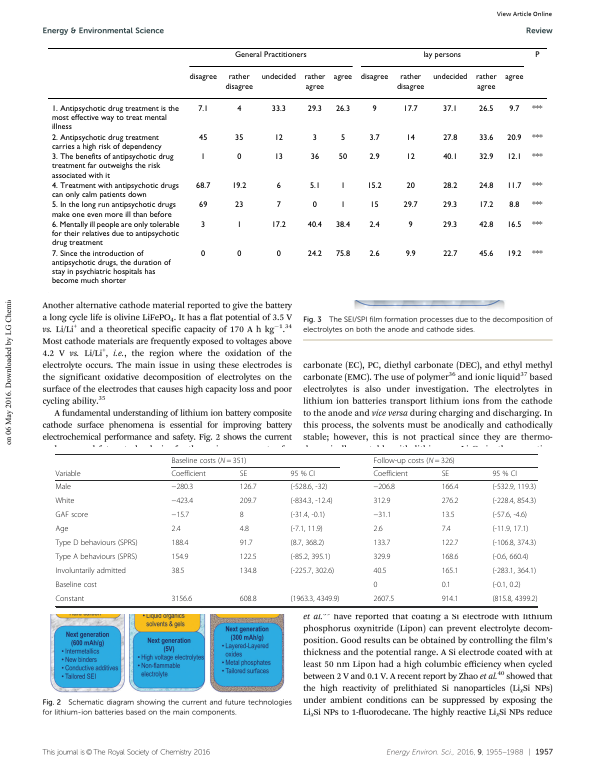borderless: (46, 46, 548, 294), (54, 452, 537, 606)
cell: (50, 249, 171, 286), (50, 220, 180, 248), (50, 104, 179, 132), (50, 152, 174, 181), (50, 200, 176, 220), (50, 181, 179, 200), (50, 133, 162, 152), (54, 538, 138, 548), (54, 552, 138, 562), (372, 456, 456, 465), (233, 50, 307, 60), (54, 566, 127, 576), (171, 456, 247, 465), (395, 73, 425, 92), (224, 73, 253, 92), (290, 594, 340, 604), (491, 594, 538, 604), (491, 482, 537, 492), (491, 496, 537, 506), (491, 538, 537, 548), (491, 566, 537, 576), (290, 566, 335, 576), (54, 580, 98, 590), (303, 73, 326, 92), (474, 73, 497, 92), (290, 496, 333, 506), (290, 552, 331, 562), (422, 50, 461, 60), (290, 482, 328, 492), (491, 524, 529, 534), (491, 552, 529, 562), (372, 469, 409, 479), (491, 510, 528, 520), (171, 469, 207, 479), (290, 510, 326, 520), (54, 510, 89, 520), (290, 538, 325, 548), (290, 524, 324, 534), (260, 73, 296, 82), (432, 73, 468, 82), (491, 580, 522, 590), (54, 594, 85, 604), (54, 469, 81, 479), (491, 469, 518, 479), (359, 73, 389, 82), (188, 73, 217, 82), (290, 469, 316, 479), (372, 482, 396, 492), (171, 482, 194, 492), (171, 496, 194, 506), (372, 594, 395, 604), (171, 594, 193, 604), (54, 496, 75, 506), (372, 510, 392, 520), (372, 496, 391, 506), (171, 510, 190, 520), (372, 538, 391, 548), (372, 552, 391, 562), (332, 73, 353, 82), (54, 482, 72, 492), (239, 482, 257, 492), (441, 482, 459, 492), (239, 496, 257, 506), (441, 496, 459, 506), (171, 538, 189, 548), (441, 538, 459, 548), (171, 552, 189, 562), (239, 552, 257, 562), (441, 552, 459, 562), (239, 566, 257, 576), (441, 566, 459, 576), (239, 594, 257, 604), (441, 594, 459, 604), (504, 73, 524, 82), (334, 220, 351, 230), (334, 249, 351, 259), (270, 104, 286, 114), (306, 104, 322, 114), (334, 104, 350, 114), (402, 104, 418, 114), (442, 104, 458, 114), (478, 104, 494, 114), (442, 133, 458, 143), (478, 133, 494, 143), (506, 133, 522, 143), (442, 152, 458, 162), (478, 152, 494, 162), (506, 152, 522, 162), (195, 181, 211, 191), (231, 181, 247, 191), (366, 181, 382, 191), (442, 181, 458, 191), (478, 181, 494, 191), (506, 181, 522, 191), (402, 200, 418, 210), (442, 200, 458, 210), (478, 200, 494, 210), (270, 220, 286, 230), (306, 220, 322, 230), (442, 220, 458, 230), (478, 220, 494, 230), (506, 220, 522, 230), (306, 249, 322, 259), (442, 249, 458, 259), (478, 249, 494, 259), (506, 249, 522, 259), (54, 524, 69, 534), (239, 538, 254, 548), (372, 566, 387, 576), (441, 510, 455, 520), (171, 566, 185, 576), (197, 104, 209, 114), (508, 104, 520, 114), (531, 104, 543, 114), (368, 133, 380, 143), (531, 133, 543, 143), (368, 152, 380, 162), (531, 152, 543, 162), (308, 181, 320, 191), (531, 181, 543, 191), (508, 200, 520, 210), (531, 200, 543, 210), (368, 220, 380, 230), (531, 220, 543, 230), (368, 249, 380, 259), (404, 249, 416, 259), (531, 249, 543, 259), (171, 524, 182, 534), (239, 524, 250, 534), (372, 524, 383, 534), (441, 524, 452, 534), (441, 580, 452, 590), (309, 152, 320, 162), (337, 152, 348, 162), (198, 133, 208, 143), (234, 133, 244, 143), (273, 133, 283, 143), (405, 133, 415, 143), (273, 152, 283, 162), (405, 152, 415, 162), (405, 181, 415, 191), (198, 200, 208, 210), (234, 200, 244, 210), (369, 200, 379, 210), (239, 469, 248, 479), (441, 469, 450, 479), (339, 133, 346, 143), (339, 181, 346, 191), (339, 200, 346, 210), (239, 510, 245, 520), (372, 580, 378, 590), (534, 50, 540, 60), (236, 104, 242, 114), (371, 104, 377, 114), (311, 133, 317, 143), (200, 152, 206, 162), (236, 152, 242, 162), (275, 181, 281, 191), (275, 200, 281, 210), (311, 200, 317, 210), (200, 220, 206, 230), (236, 220, 242, 230), (407, 220, 413, 230), (200, 249, 206, 259), (236, 249, 242, 259), (275, 249, 281, 259)
